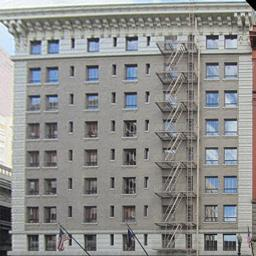building: (7, 0, 256, 256)
